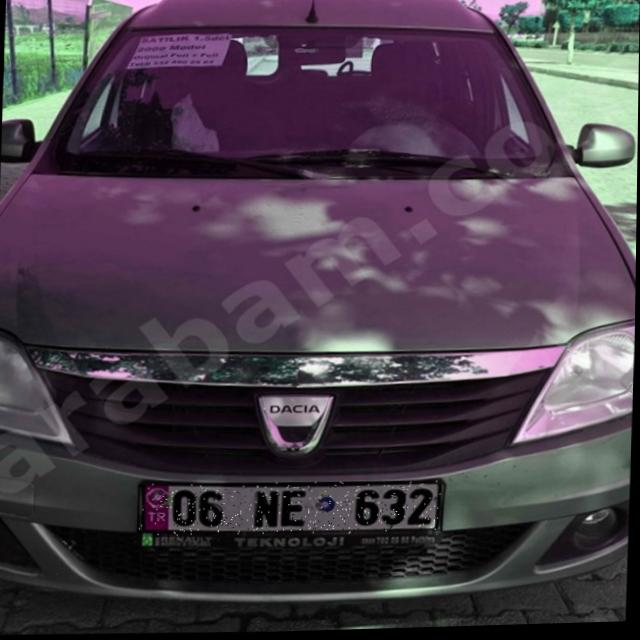license_plate: (138, 478, 443, 542)
